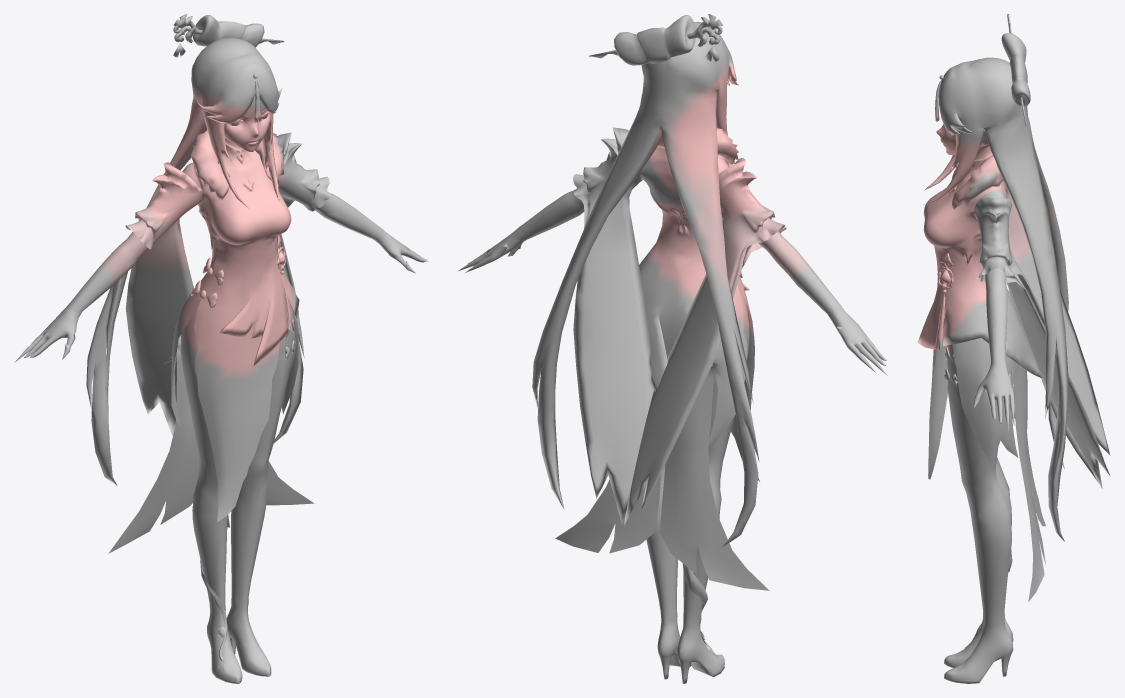
Rendered from nningguang.fbx.
3 renders of one model, left to right at view 1: azimuth 30°, elevation 25°; view 2: azimuth 150°, elevation 25°; view 3: azimuth 270°, elevation 25°, orthographic. The views are drawn at different scales.
Parts seen in each view (by area): view 1: 凝光_mesh; view 2: 凝光_mesh; view 3: 凝光_mesh.
Boxes of the visible parts, bbox=[...] form: 凝光_mesh: bbox=[14, 14, 428, 683]; 凝光_mesh: bbox=[458, 14, 887, 683]; 凝光_mesh: bbox=[917, 14, 1110, 683].
Bounding box in the file's own units: 1339 × 2006 × 549.
